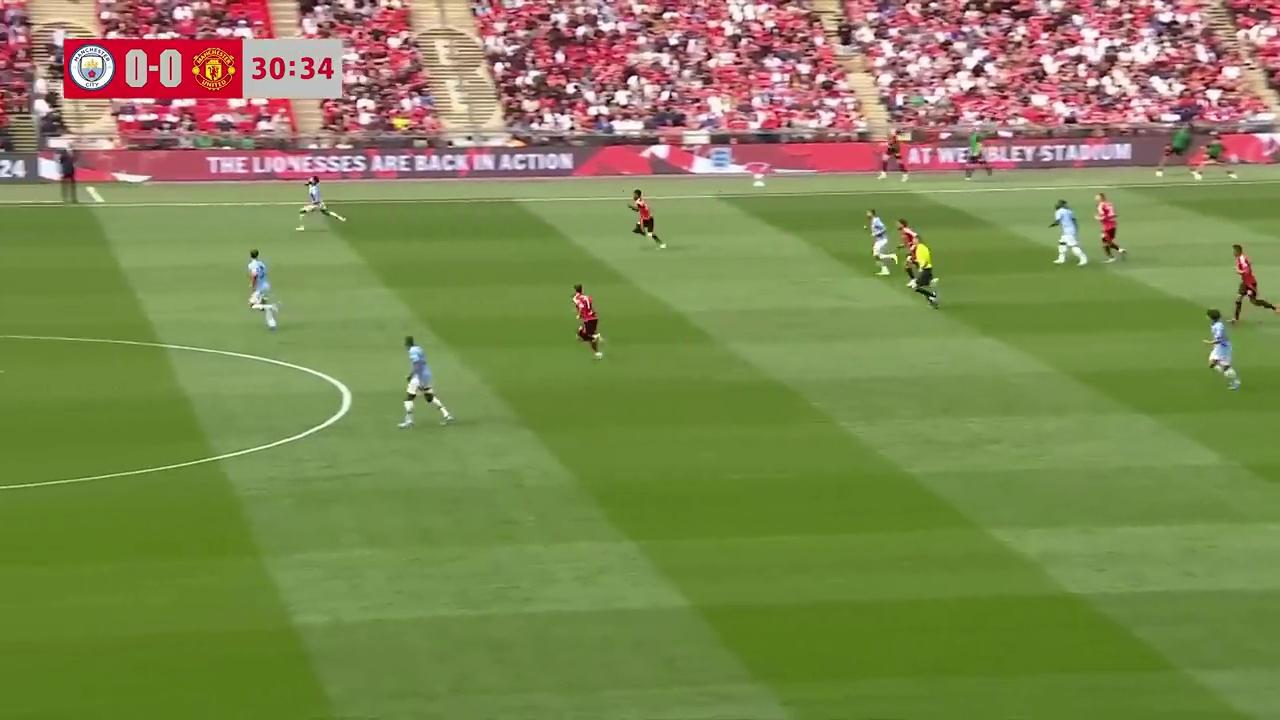player: (397, 335, 453, 429), (1232, 244, 1278, 325), (1204, 309, 1240, 390), (1049, 200, 1088, 267), (297, 176, 343, 228), (572, 285, 603, 359), (1094, 193, 1125, 261), (629, 190, 665, 248), (864, 209, 893, 273), (247, 249, 273, 320), (894, 218, 920, 274)
referee: (907, 249, 939, 310)
